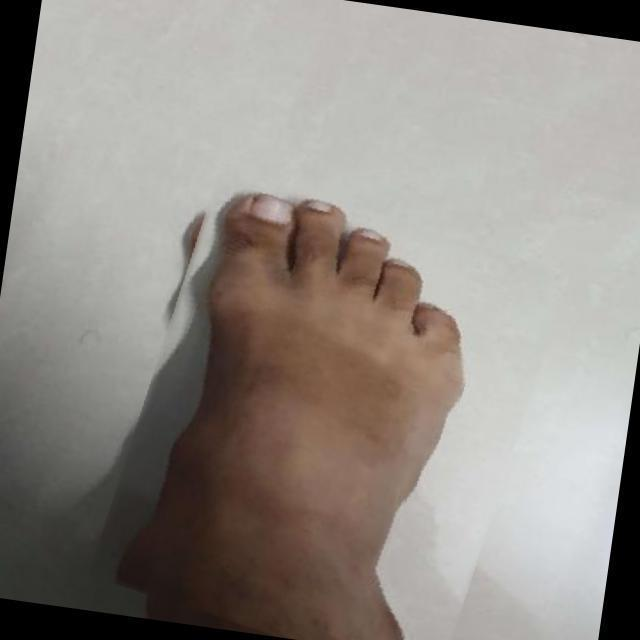No_Shoes: (122, 162, 480, 608)
